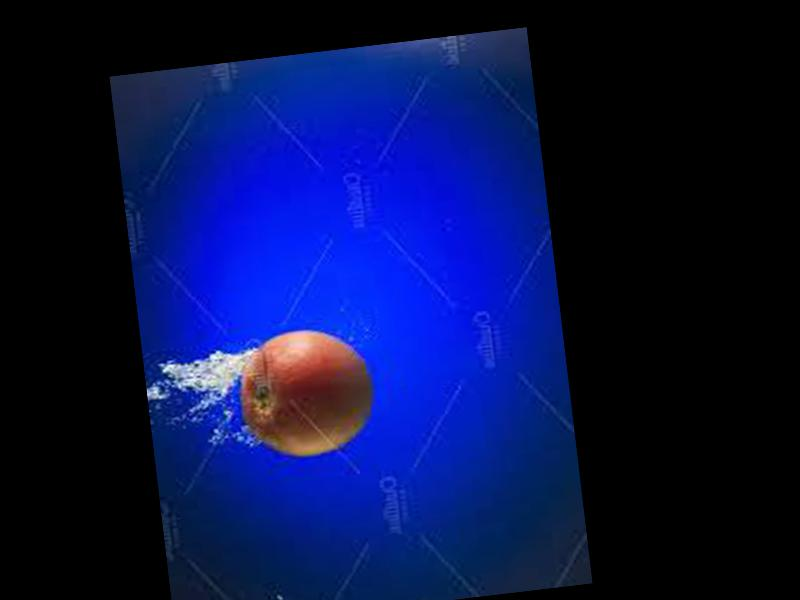Tomato: (233, 324, 375, 464)
